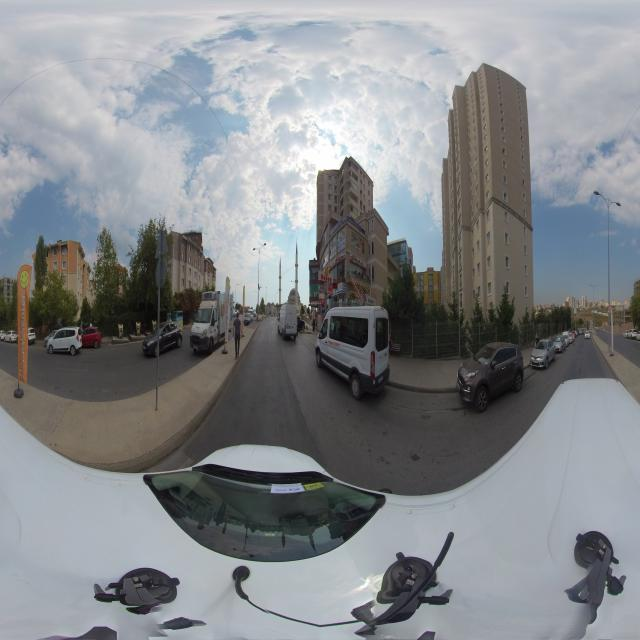SignStore: (330, 215, 365, 236), (328, 252, 346, 271), (350, 254, 367, 269)
